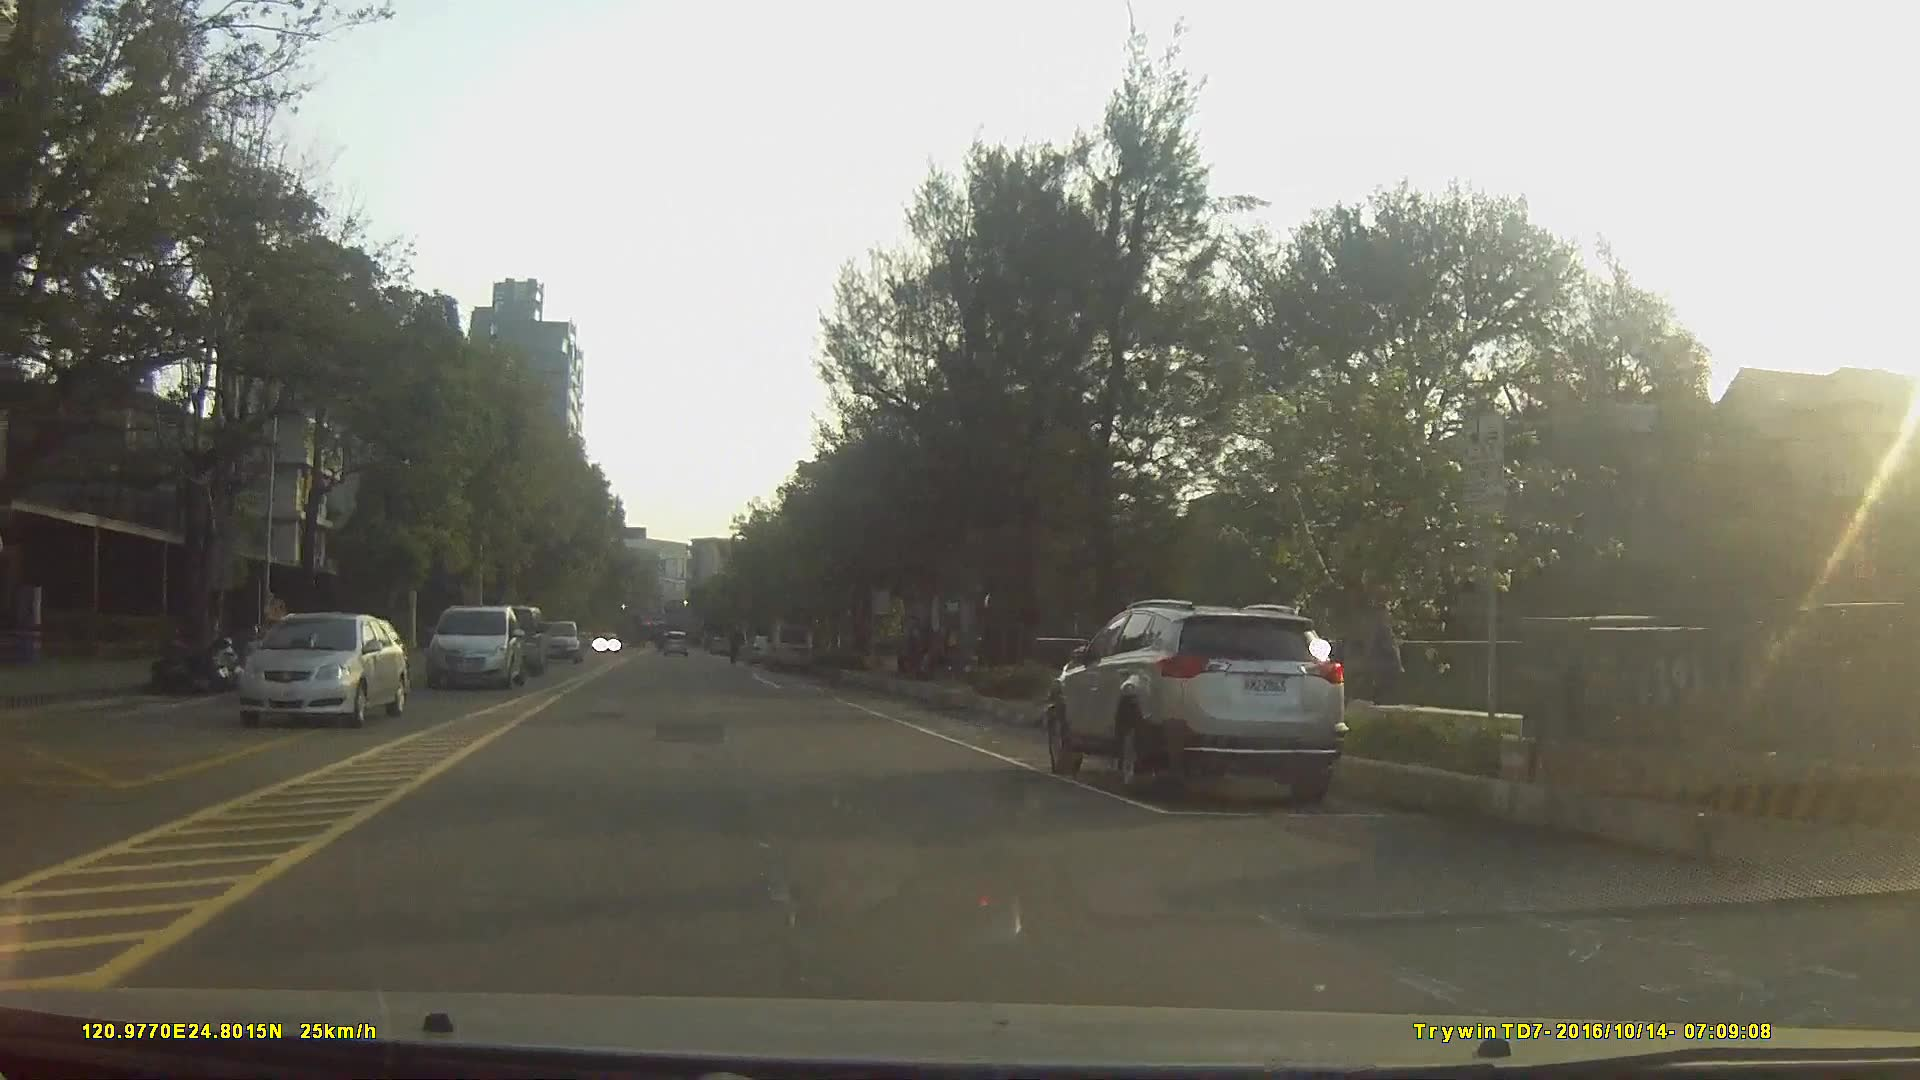vehicle: (1048, 597, 1346, 806), (235, 613, 407, 728), (427, 603, 525, 688), (764, 621, 816, 673), (533, 617, 582, 659), (742, 633, 779, 667), (661, 626, 690, 657)
